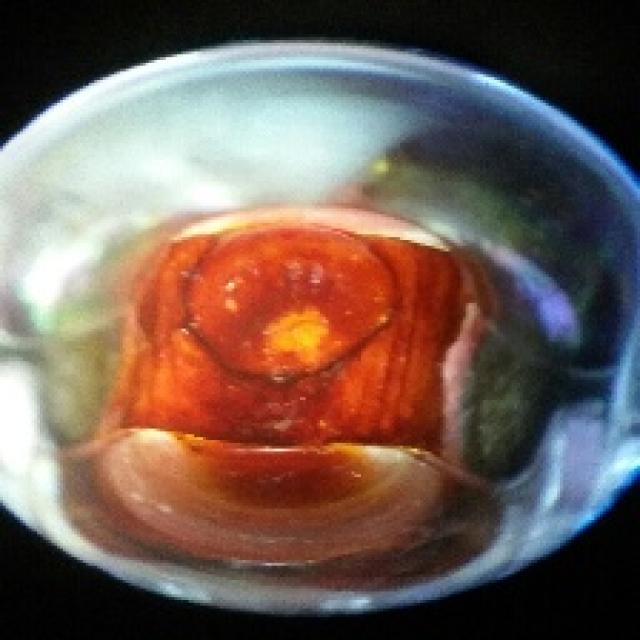type-3: (117, 105, 506, 567)
